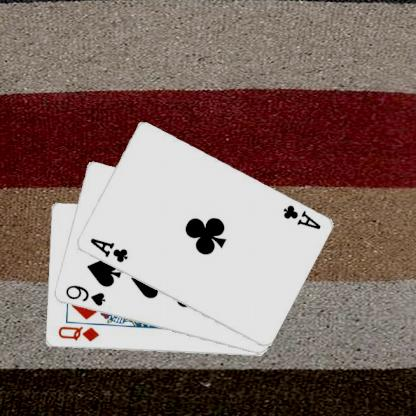9S: (62, 282, 107, 308)
AC: (87, 235, 129, 264), (280, 202, 322, 231)
QD: (54, 324, 100, 343)
